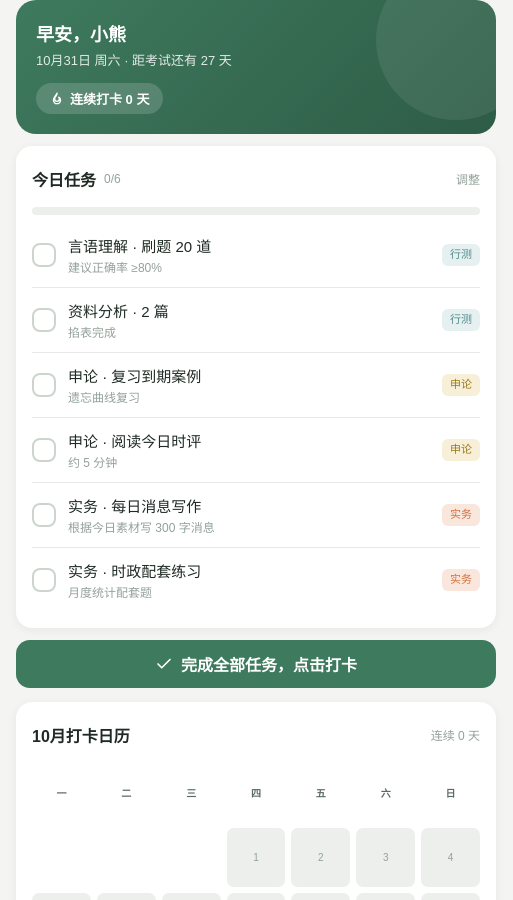
Scenario: TodayView 渲染（阶段1 冒烟） › 勾选第一条任务 → 进度从 0/6 变 1/6，且该行置 done
Click the element with class "task-row" showing "言语理解 · 刷题 20 道 建议正确率 ≥80% 行测" at (256, 256), box [32,223,480,288]
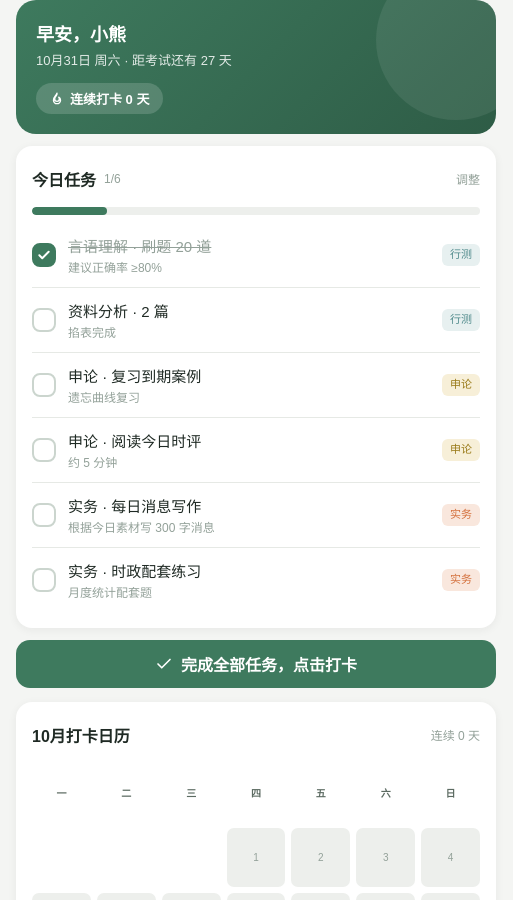
Expected: the number of elements with class "done" is 1, [32,223,480,288]
Expected: the text "1/6" is shown, [104,172,121,186]
